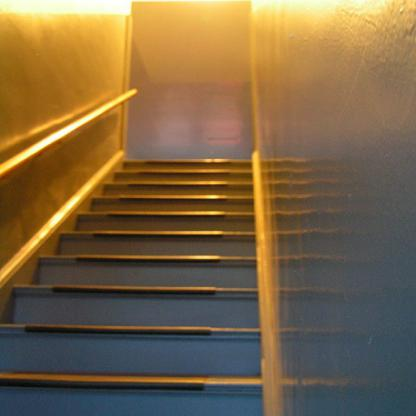stairs: (79, 215, 256, 416)
